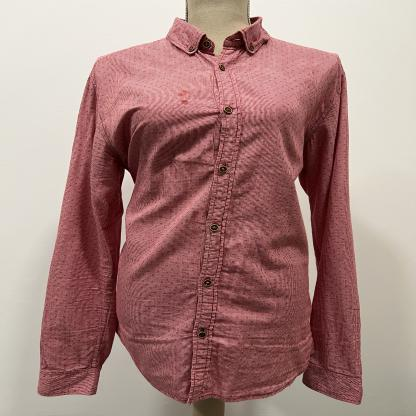stain: (174, 88, 193, 99), (177, 98, 191, 107)
